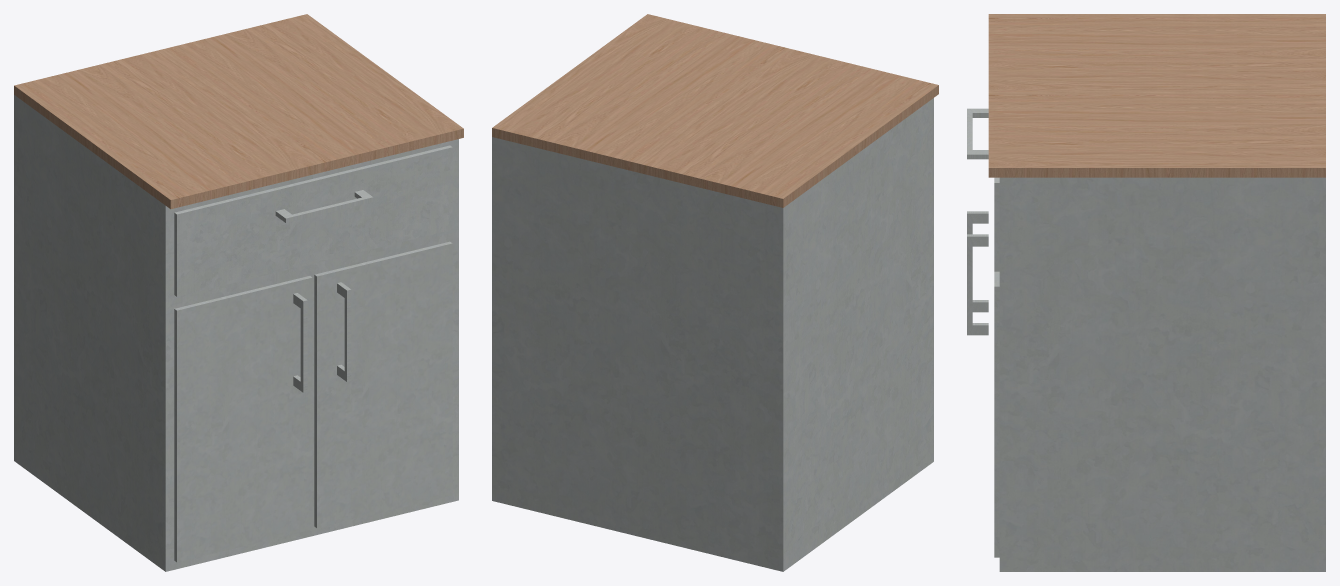
File: CajoneraCajonPuertas.glb
3 renders of one model, left to right at view 1: azimuth 30°, elevation 25°; view 2: azimuth 150°, elevation 25°; view 3: azimuth 270°, elevation 25°, orthographic. The views are drawn at different scales.
Visible parts, largest first — view 1: CajonPuertas, TapaCP, PuertaCP_L, PuertaCP_R, PuertaCP_U, HandleCP_L, HandleCP_R, HandleCP_U; view 2: CajonPuertas, TapaCP; view 3: CajonPuertas, TapaCP, PuertaCP_R, HandleCP_R, HandleCP_U, HandleCP_L, PuertaCP_U.
Part boxes in pixels (<box>): CajonPuertas: <box>14,95,458,571</box>; TapaCP: <box>14,14,463,209</box>; PuertaCP_L: <box>174,276,312,562</box>; PuertaCP_R: <box>314,241,452,528</box>; PuertaCP_U: <box>174,145,452,296</box>; HandleCP_L: <box>293,293,307,392</box>; HandleCP_R: <box>337,282,351,381</box>; HandleCP_U: <box>275,190,373,222</box>; CajonPuertas: <box>492,98,933,571</box>; TapaCP: <box>492,14,938,207</box>; CajonPuertas: <box>999,177,1325,571</box>; TapaCP: <box>988,14,1325,177</box>; PuertaCP_R: <box>994,271,999,557</box>; HandleCP_R: <box>967,234,988,335</box>; HandleCP_U: <box>967,108,988,159</box>; HandleCP_L: <box>967,211,988,312</box>; PuertaCP_U: <box>994,177,999,271</box>.
Bounding box in the file's own units: 0.67 × 0.82 × 0.66.
Materials: 2 (2 with a texture image).
